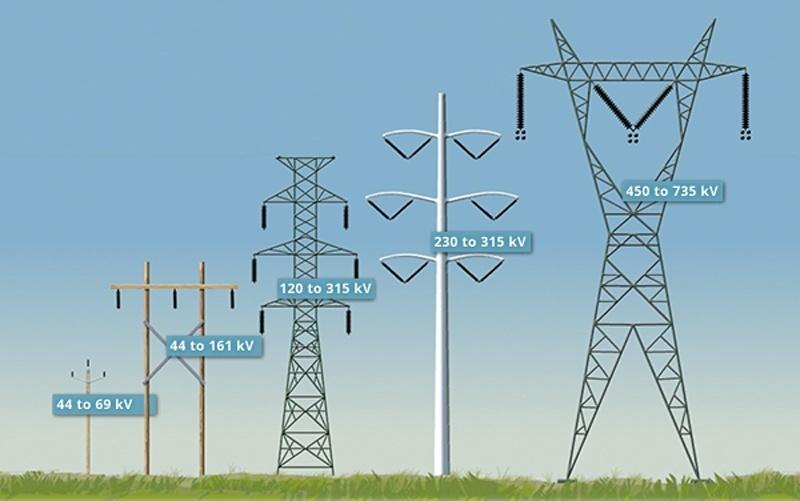power_tower: (526, 17, 768, 476), (377, 89, 506, 470), (266, 146, 351, 473)
